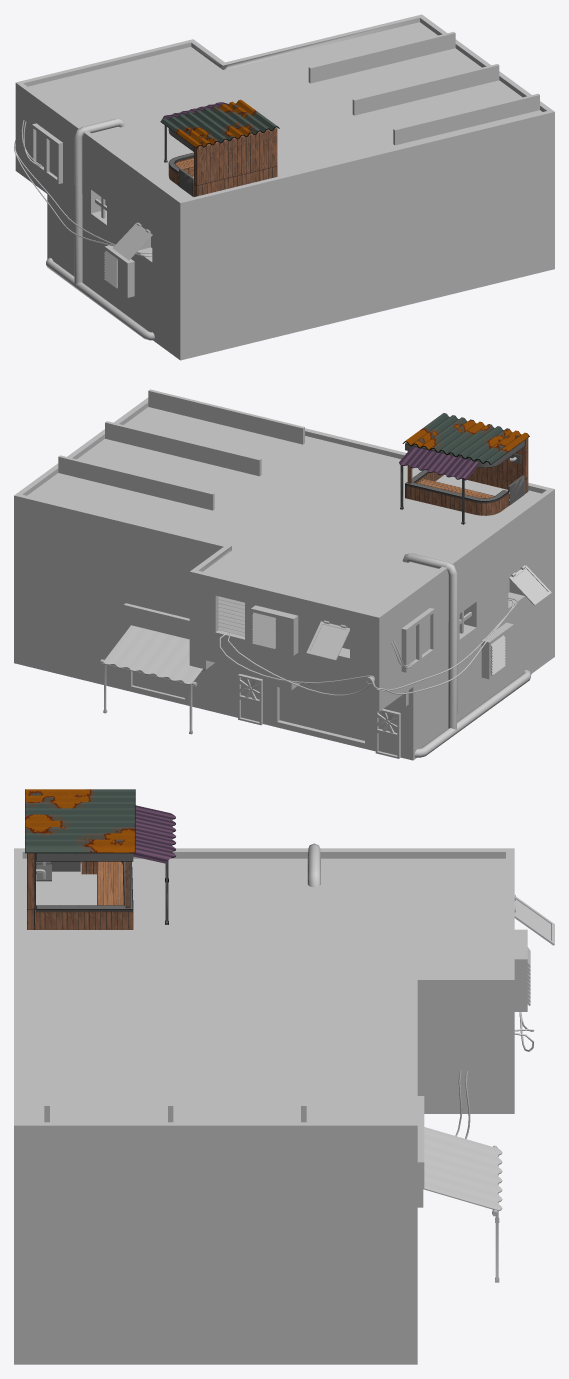
Rendered from Building_Escaparates.fbx.
3 views of the same model, one above another, from view 1: azimuth 30°, elevation 25°; view 2: azimuth 150°, elevation 25°; view 3: azimuth 270°, elevation 25° (orthographic). The views are drawn at different scales.
Visible parts, largest first — view 1: Cylinder.051, Cylinder.001, Plane.002, Cube__1_.002, NurbsPath.017; view 2: Cylinder.051, Plane.002, Cube__1_.002, Cylinder.001, Plane.013, NurbsPath.017, Plane.014; view 3: Cylinder.051, Plane.002, Cylinder.001, Cube__1_.002.
Boxes of the visible parts, box(x1,y1,x2,y2) form: Cylinder.051: box(15, 22, 554, 360); Cylinder.001: box(15, 14, 554, 207); Plane.002: box(160, 100, 279, 196); Cube__1_.002: box(308, 31, 539, 145); NurbsPath.017: box(14, 120, 152, 256); Cylinder.051: box(14, 407, 554, 760); Plane.002: box(399, 413, 529, 524); Cube__1_.002: box(58, 389, 304, 510); Cylinder.001: box(14, 397, 554, 622); Plane.013: box(279, 683, 364, 740); NurbsPath.017: box(201, 597, 517, 695); Plane.014: box(132, 671, 184, 697); Cylinder.051: box(14, 843, 554, 1364); Plane.002: box(25, 789, 175, 929); Cylinder.001: box(14, 848, 514, 1132); Cube__1_.002: box(44, 998, 306, 1122).
Size of the model in its own units: 29.31 by 14.52 by 22.66.
